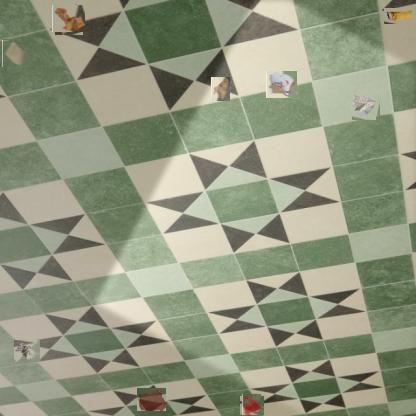dirty: (54, 3, 84, 34), (267, 70, 297, 99), (350, 90, 378, 118), (2, 39, 27, 67), (14, 340, 40, 362), (384, 8, 416, 24), (210, 79, 232, 100)
liquid: (136, 387, 166, 411), (241, 394, 262, 416)
